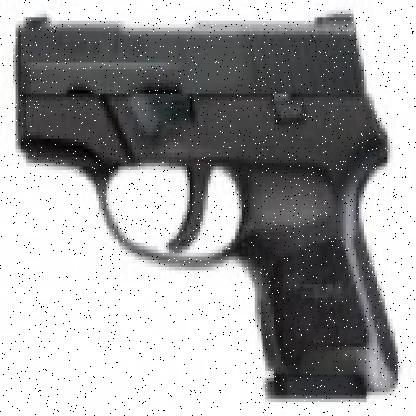pistol: (10, 3, 400, 405)
